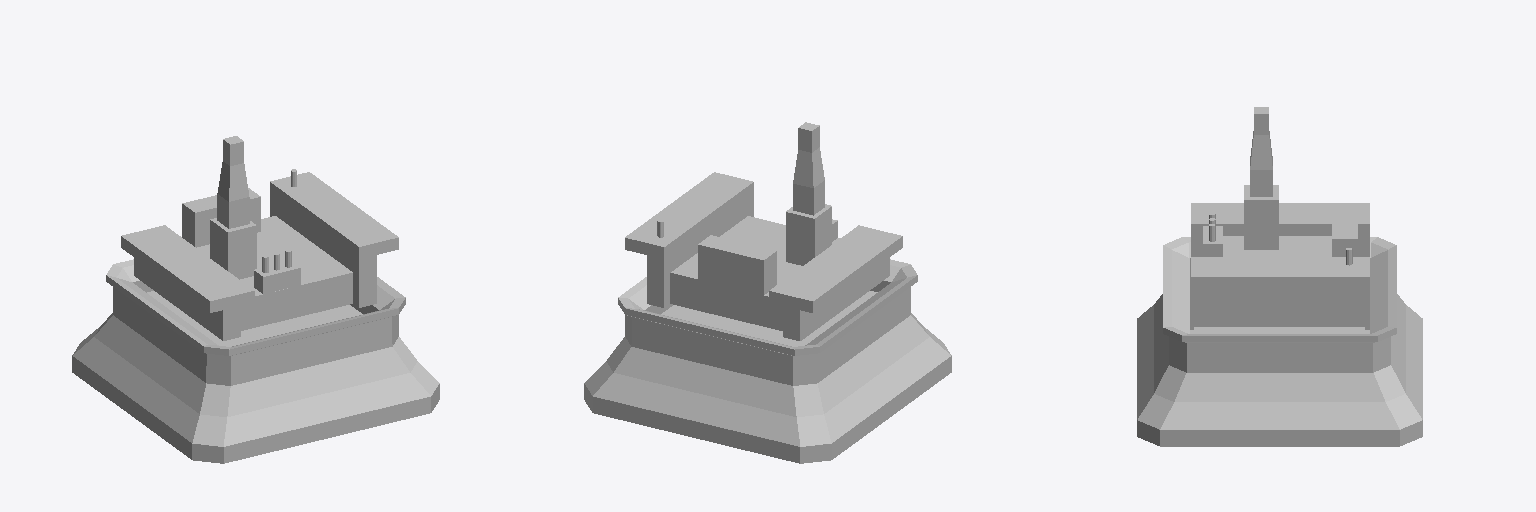
The model's file is blockout.obj.
3 renders of one model, left to right at view 1: azimuth 30°, elevation 25°; view 2: azimuth 150°, elevation 25°; view 3: azimuth 270°, elevation 25°, orthographic.
Parts seen in each view (by area): view 1: Box001, Box003, Box006, Box002, Box005, Box004; view 2: Box001, Box003, Box006, Box005, Box002; view 3: Box001, Box003, Box006, Box005, Box002.
Part boxes in pixels (left/top/right/bottom): Box001: left=72, top=259, right=439, bottom=463; Box003: left=121, top=172, right=398, bottom=340; Box006: left=210, top=136, right=256, bottom=279; Box002: left=147, top=291, right=362, bottom=346; Box005: left=182, top=188, right=260, bottom=247; Box004: left=254, top=262, right=300, bottom=293; Box001: left=584, top=259, right=951, bottom=463; Box003: left=625, top=172, right=902, bottom=340; Box006: left=786, top=122, right=831, bottom=265; Box005: left=698, top=235, right=776, bottom=295; Box002: left=661, top=291, right=877, bottom=346; Box001: left=1137, top=237, right=1422, bottom=446; Box003: left=1191, top=203, right=1369, bottom=326; Box006: left=1244, top=107, right=1278, bottom=249; Box005: left=1332, top=207, right=1357, bottom=256; Box002: left=1194, top=327, right=1364, bottom=333.
Size of the model in its own units: 83.68 by 84.2 by 83.68.